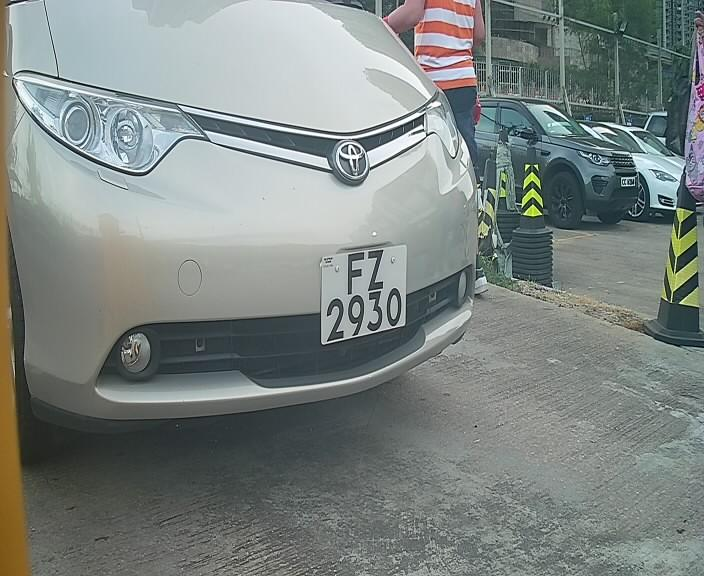License Plate: (309, 237, 415, 355)
